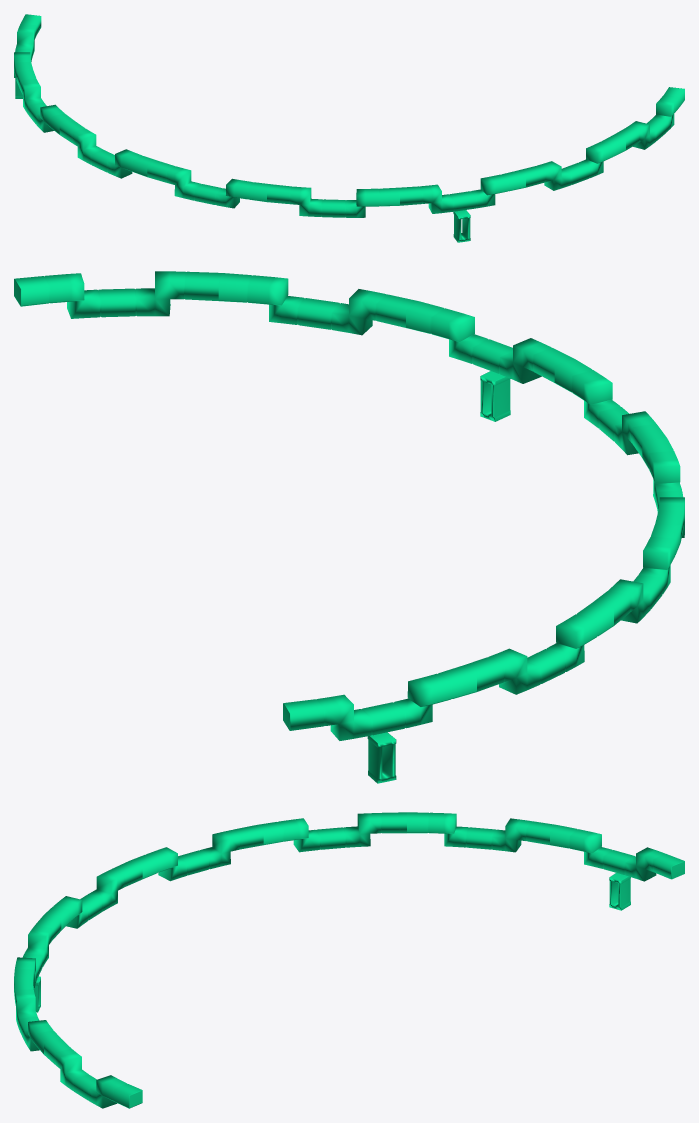
The model's file is Tower_Battlements_01A.fbx.
3 views of the same model, one above another, from view 1: azimuth 30°, elevation 25°; view 2: azimuth 150°, elevation 25°; view 3: azimuth 270°, elevation 25° (orthographic). The views are drawn at different scales.
Visible parts, largest first — view 1: Tower_Battlements_01A; view 2: Tower_Battlements_01A; view 3: Tower_Battlements_01A.
Part boxes in pixels (x1,y1,x2,y2): Tower_Battlements_01A: (14,14,684,242); Tower_Battlements_01A: (14,271,684,783); Tower_Battlements_01A: (14,812,684,1108).
Size of the model in its own units: 1349 by 138 by 1349.
